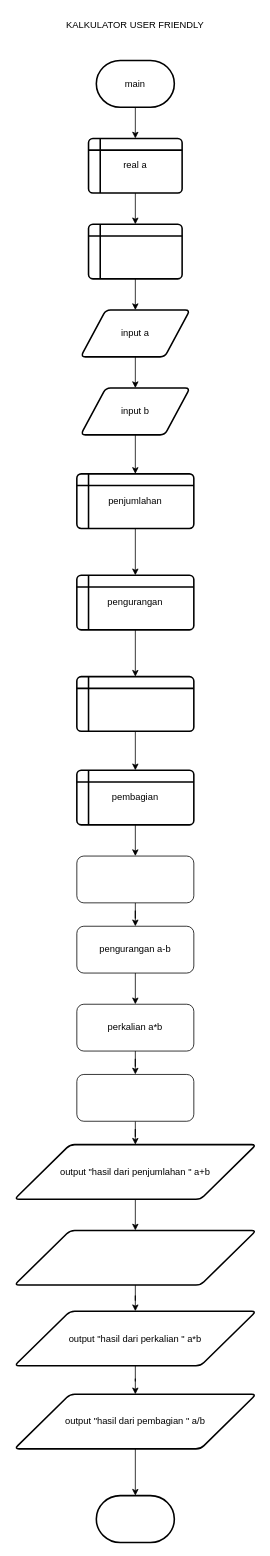
The diagram is 270 pixels wide and 1556 high, and some of its shapes have lost their labels. The shapes that lost their labels are listed below. From the top down, each one's centre as x and y in pixels, then its label:
pixel 135 251: real b
pixel 135 703: perkalian
pixel 135 879: penjumlahan a+b
pixel 135 1097: pembagian a/b
pixel 135 1257: output "hasil dari pengurangan " a-b
pixel 135 1518: end
